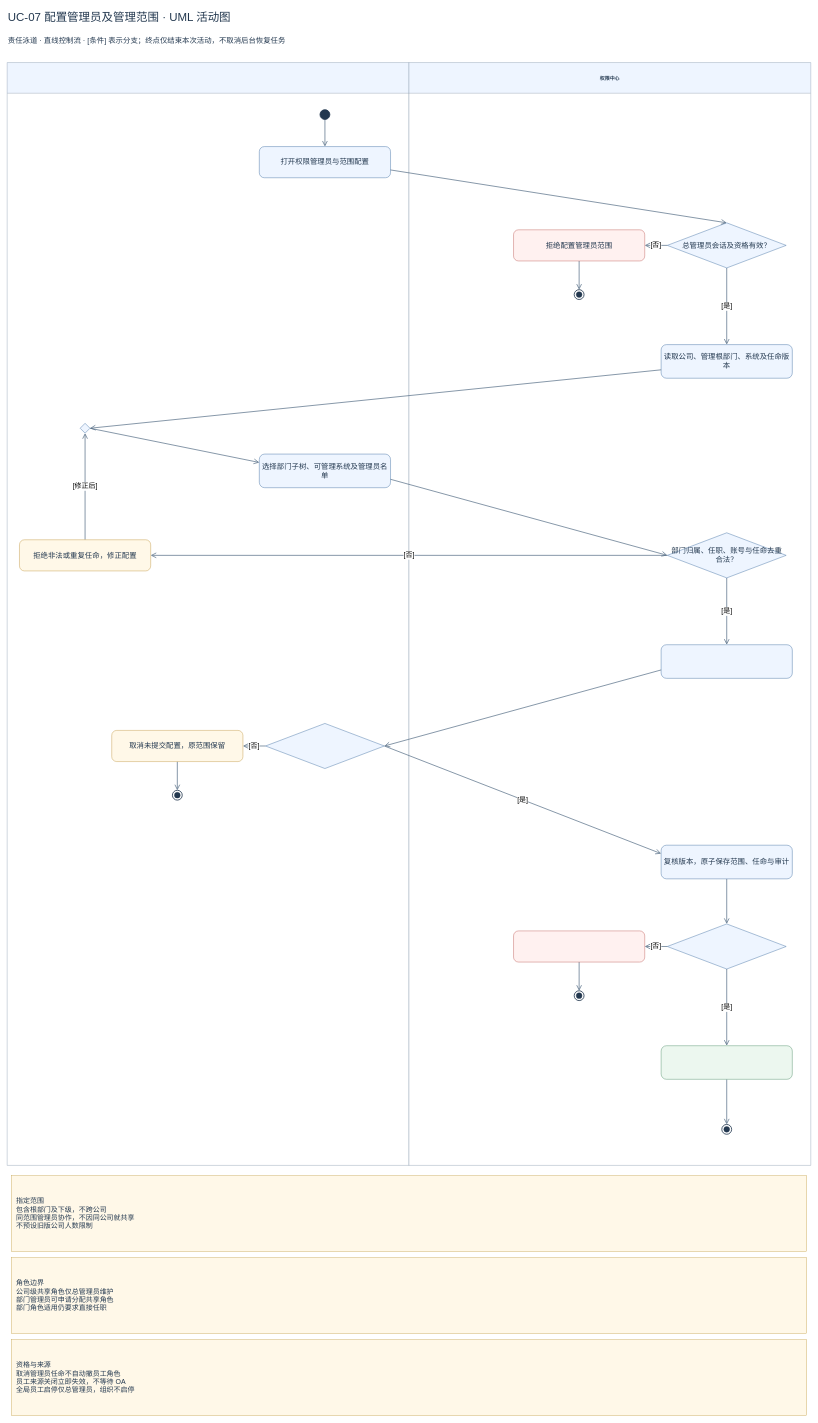
Image size: 818x1423. Some labels were removed from this diagram. Here are the shapes that lost their labels. From the top down, the box of each, then its label:
(7, 62, 409, 1165): 管理员 总管理员
(661, 644, 792, 678): 预览部门/系统变更及待执行申请影响
(265, 723, 384, 769): 确认保存范围与任命？
(513, 930, 645, 962): 整体回滚，不部分改变范围
(667, 924, 786, 969): 全部提交成功？
(661, 1045, 792, 1079): 范围直接生效，后续请求按最新资格检查
